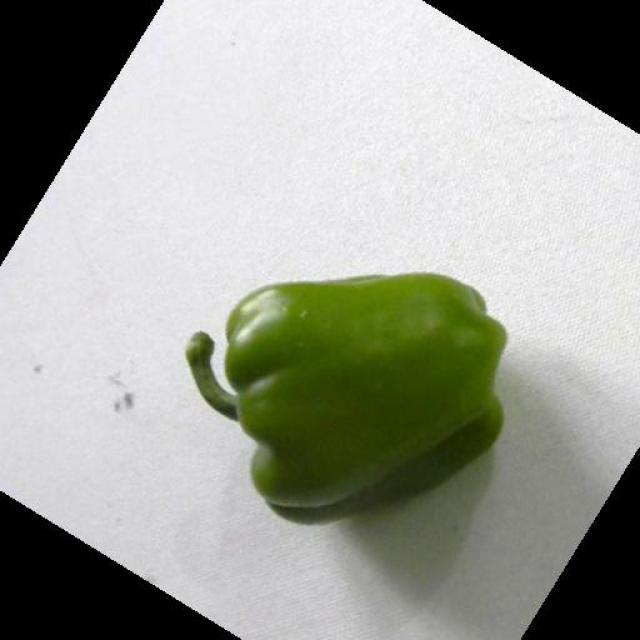Fresh_Capsicum: (189, 214, 517, 530)
